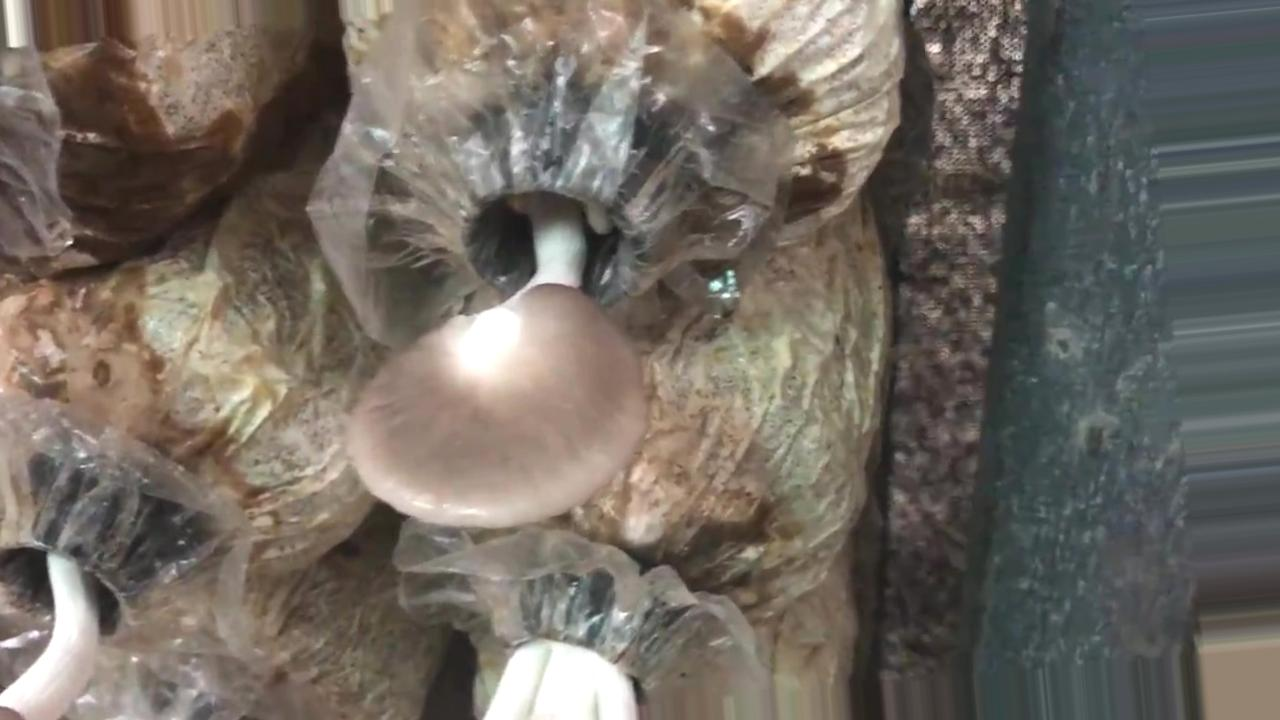nam: (350, 117, 649, 528)
